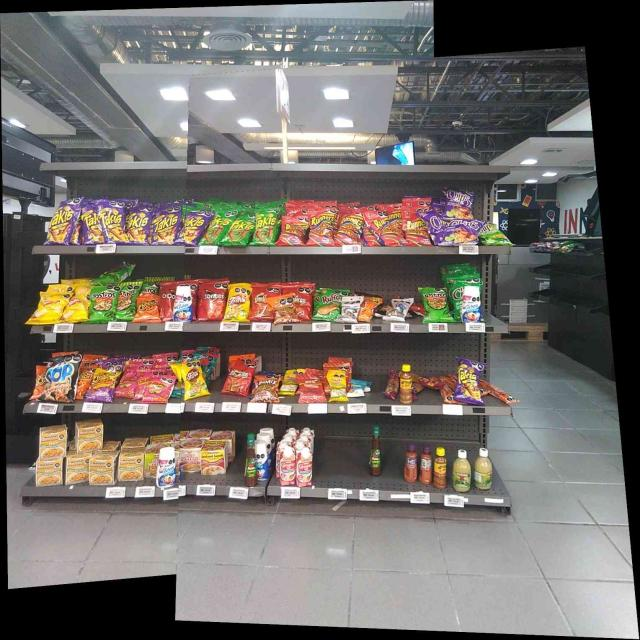bitzAlmendras: (351, 383, 366, 397)
bitzEnchilado90: (298, 377, 324, 403)
botaneraChilito: (434, 447, 446, 489), (400, 364, 413, 402)
cheetosFlaminHot: (90, 367, 115, 402)
cheetosOriginal: (136, 296, 158, 324)
chipsFuego: (430, 223, 478, 246), (446, 186, 474, 218)
chipsPapatinas: (482, 224, 511, 246)
churrumais: (145, 374, 169, 404)
delPrimoSalsa: (452, 448, 470, 492), (474, 448, 492, 490)
doritosNacho: (198, 284, 224, 321), (160, 284, 172, 321)
fritosLimon: (227, 285, 250, 322), (182, 364, 207, 397)
leoCacahuates: (389, 298, 409, 321), (341, 298, 357, 323)
leoMix: (253, 374, 278, 404), (272, 296, 292, 324), (360, 297, 374, 322)
maruchanPollo: (75, 421, 103, 451), (40, 426, 66, 458), (90, 454, 113, 486), (119, 450, 142, 481), (36, 462, 64, 486), (67, 459, 87, 483)
maruchanRes: (201, 439, 226, 474)
nestleCarnation: (279, 448, 296, 486), (298, 448, 312, 486)
nestleLechera: (463, 288, 482, 322), (159, 449, 175, 486), (176, 287, 192, 322), (258, 441, 268, 481)
nissinCamaron: (145, 450, 156, 478)
nissinRes: (180, 441, 200, 472)
popKarameladas: (49, 359, 74, 402)
rancheritos: (225, 362, 249, 396), (252, 287, 270, 321), (295, 288, 311, 320)
rufflesQueso: (316, 290, 340, 321)
runners: (364, 212, 397, 246), (310, 209, 334, 246), (280, 215, 306, 248), (400, 212, 424, 246), (337, 212, 360, 245)
sabritasOriginal: (34, 292, 62, 324), (68, 286, 88, 321)
salsaBufalo: (369, 425, 382, 477), (246, 435, 257, 485)
semillasCalabaza: (327, 370, 346, 404)
tajinDulce: (403, 443, 417, 482), (420, 446, 431, 484)
takisFuego: (50, 203, 74, 245), (152, 207, 178, 245), (458, 363, 482, 404), (101, 205, 126, 242), (128, 207, 151, 244), (80, 205, 98, 244), (180, 216, 203, 243)
takisOriginal: (256, 210, 277, 247), (230, 218, 253, 246), (207, 217, 229, 244)
tostitos: (90, 287, 116, 321), (422, 289, 448, 322), (118, 283, 134, 320)
